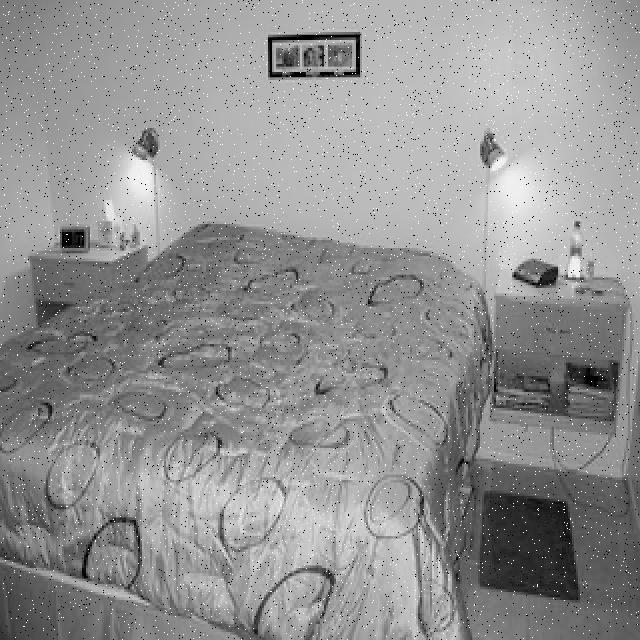bed: (0, 218, 489, 640)
